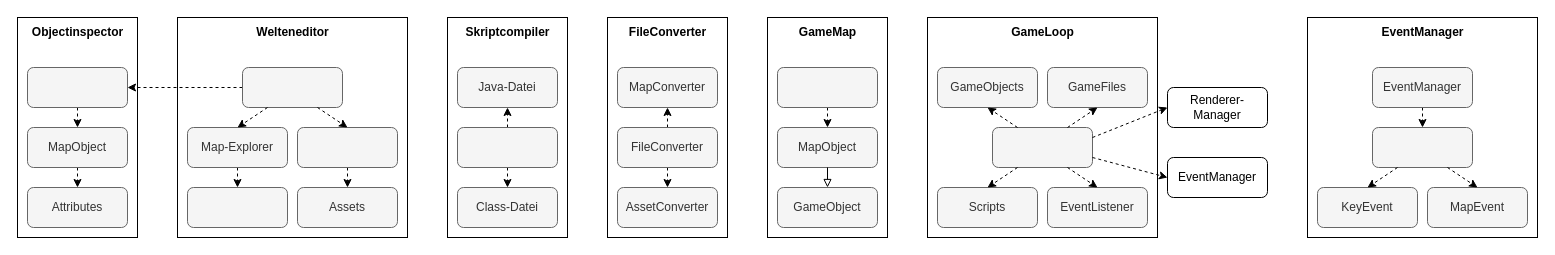
The diagram is 1555 pixels wide and 255 high, and some of its shapes have lost their labels. The shapes that lost their labels are listed below. From the top down, each one's centre as x and y in pixels, then its label:
the point at 77,87: Inspector
the point at 292,87: Editor
the point at 827,87: GameChunk
the point at 347,147: Asset-Tree
the point at 507,147: Java-Compiler
the point at 1042,147: Loop
the point at 1422,147: Registered Events
the point at 237,207: MapObjects
